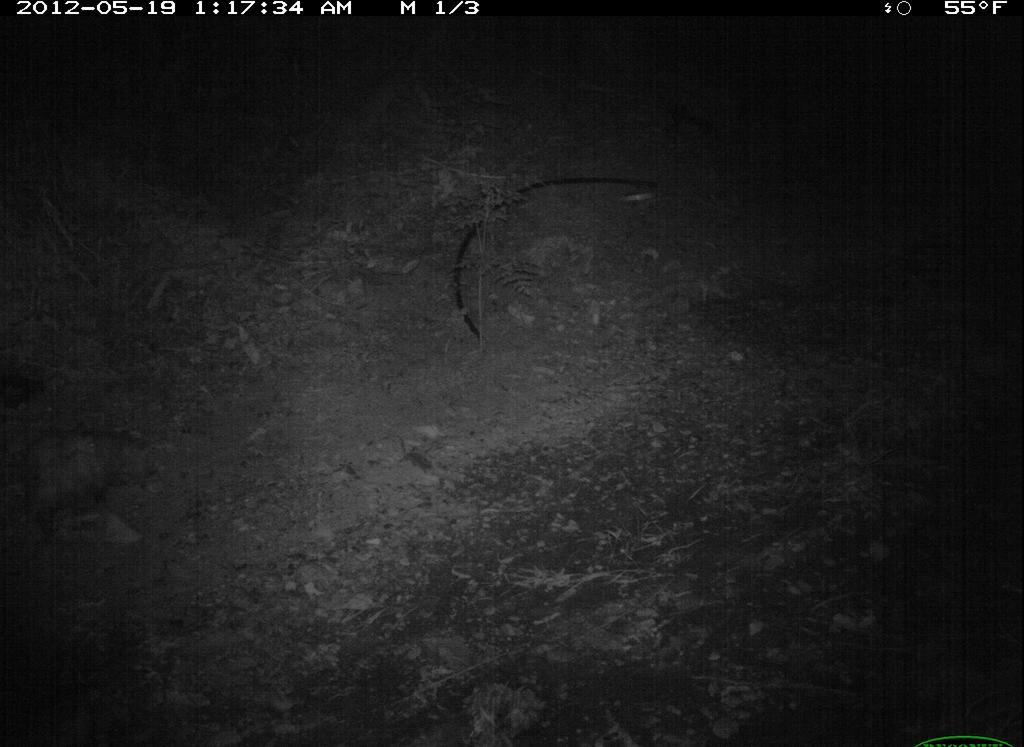opossum: (8, 409, 171, 559)
